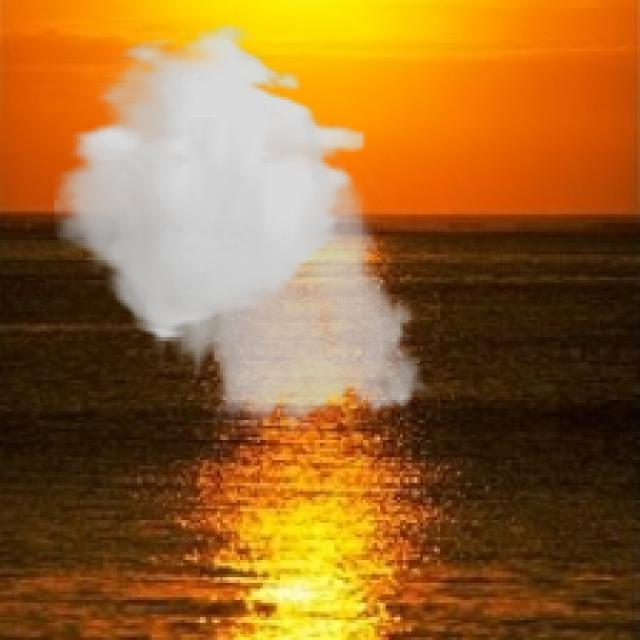Smoke: (54, 22, 437, 438)
